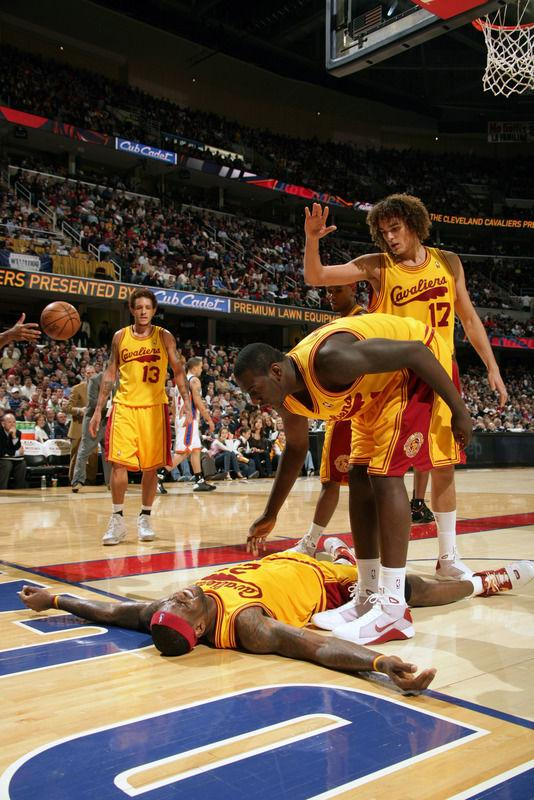bending: (242, 308, 476, 655)
down: (11, 537, 534, 702)
up: (300, 186, 508, 580), (83, 284, 193, 552), (178, 342, 222, 500)
